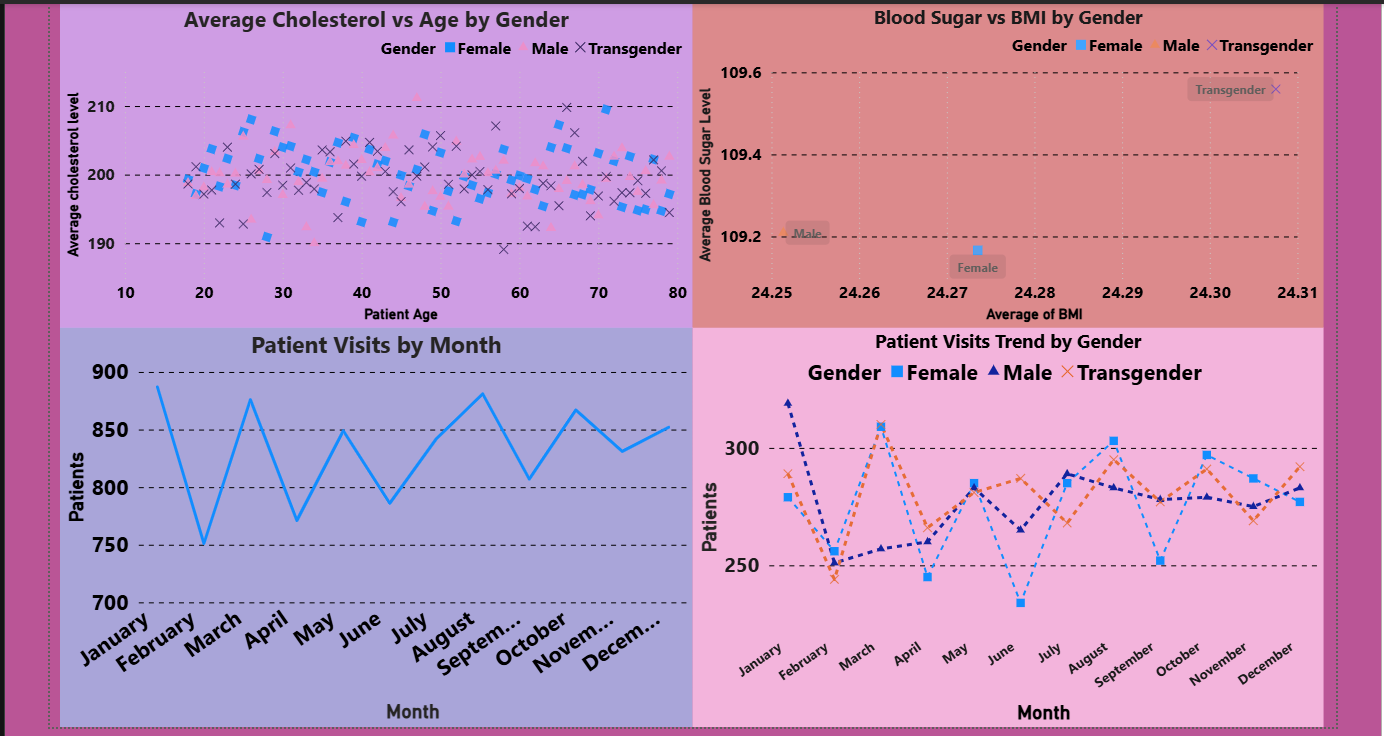

The dashboard page shown, as its layout file describes it:
{"tool":"powerbi","page":{"name":"Page 3","canvas":[1280,720],"ordinal":2},"visuals":[{"type":"scatterChart","title":"Average Cholesterol vs Age by Gender","fields":{"X":["hospital_analytics hospital_raw.patient_age"],"Series":["hospital_analytics hospital_raw.gender"],"Y":["Avg(hospital_analytics hospital_raw.cholesterol_level)"]},"box":[10,0,629.4,322.2],"z":0},{"type":"scatterChart","title":"Blood Sugar vs BMI by Gender","fields":{"X":["Avg(hospital_analytics hospital_raw.bmi)"],"Y":["Avg(hospital_analytics hospital_raw.blood_sugar_level)"],"Series":["hospital_analytics hospital_raw.gender"]},"box":[639.4,0,628.2,322.2],"z":1},{"type":"lineChart","title":"Patient Visits by Month","fields":{"Category":["hospital_analytics hospital_raw.appointment_date.Variation.Date Hierarchy.Month"],"Y":["Count(hospital_analytics hospital_raw.patient_id)"]},"box":[10,322.2,629.4,398.1],"z":2},{"type":"lineChart","title":"Patient Visits Trend by Gender","fields":{"Category":["hospital_analytics hospital_raw.appointment_date.Variation.Date Hierarchy.Month"],"Y":["CountNonNull(hospital_analytics hospital_raw.patient_id)"],"Series":["hospital_analytics hospital_raw.gender"]},"box":[639.4,322.2,628.2,398.1],"z":3}]}

Visuals, with their boxes on the page's 1280x720 design canvas (x1, y1, x2, y2). These are canvas units, not pixel positions in the 1384x736 screenshot, which may show the page scaled, cropped or inside an application window:
"Average Cholesterol vs Age by Gender" scatterChart: crop(10, 0, 639, 322)
"Blood Sugar vs BMI by Gender" scatterChart: crop(639, 0, 1268, 322)
"Patient Visits by Month" lineChart: crop(10, 322, 639, 720)
"Patient Visits Trend by Gender" lineChart: crop(639, 322, 1268, 720)
